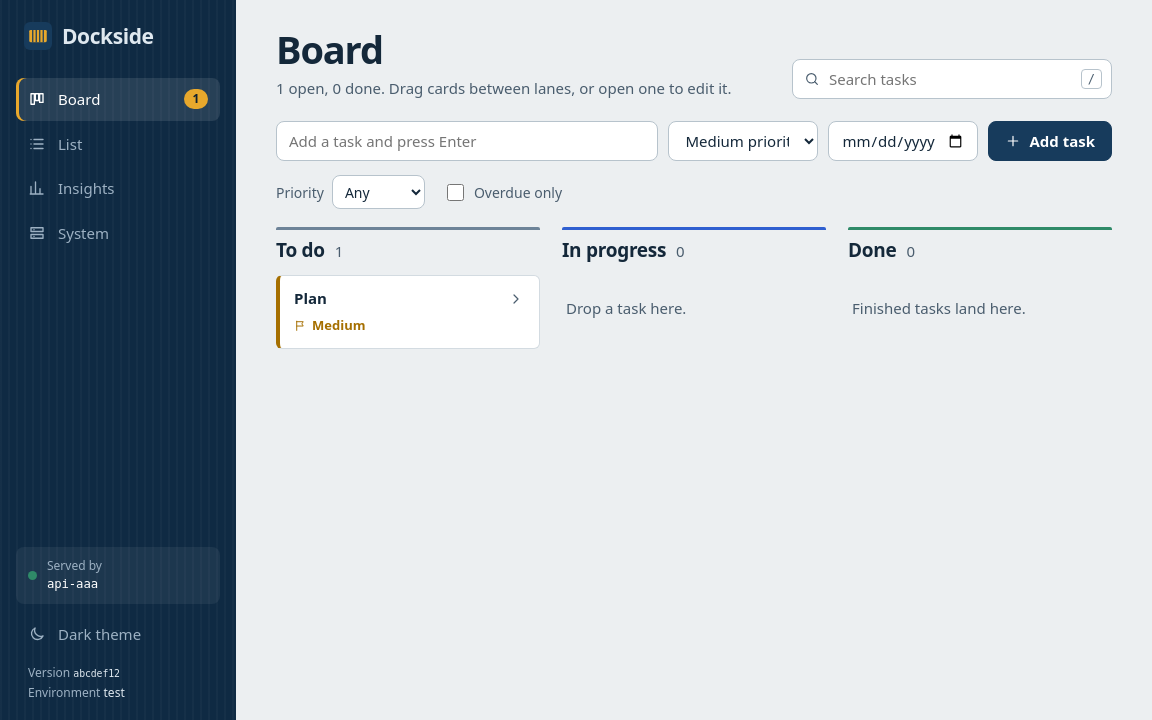
task drawer › deletes only after a second click
Click the button "Plan".
click(394, 298)  # box [294,288,495,308]
(page scrolled)
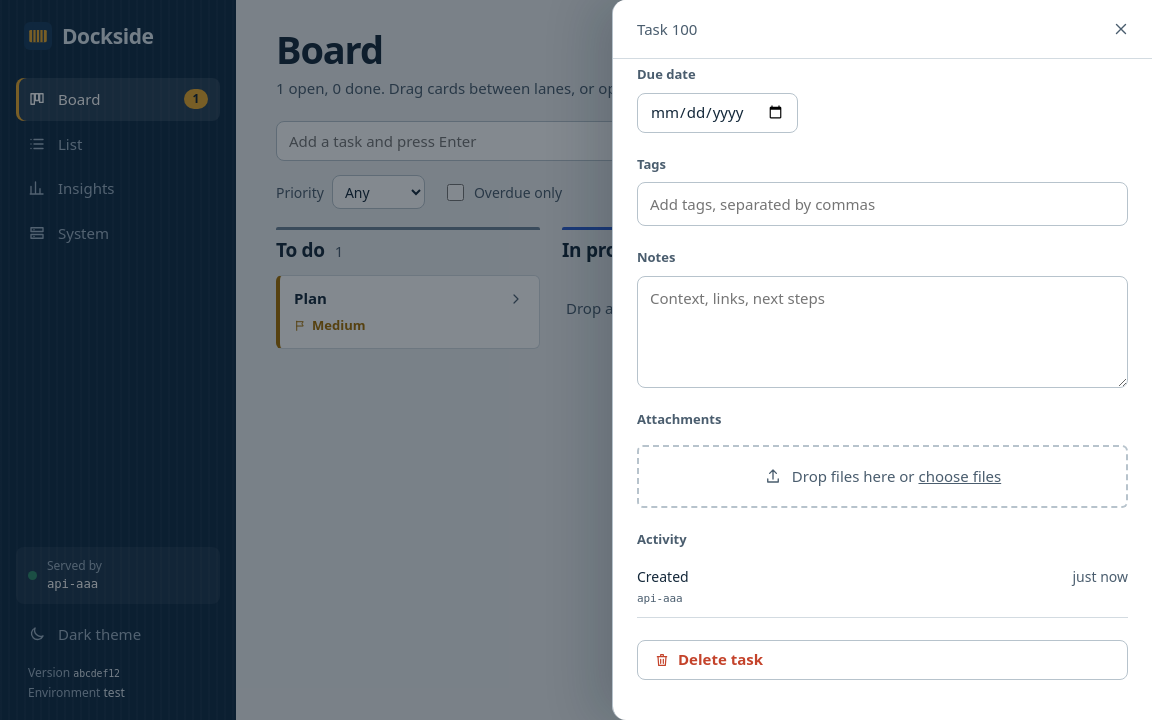
Click the button "Delete task".
click(721, 659)  # box [637,640,1128,680]
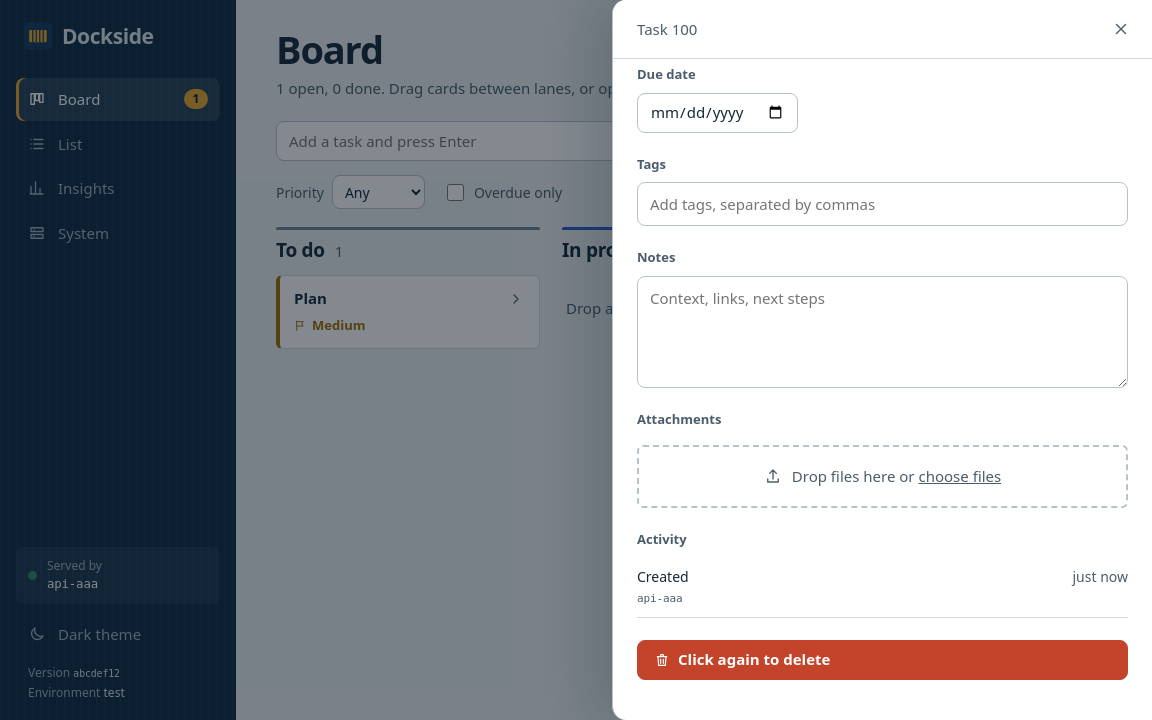
Click the button "Click again to delete".
click(754, 659)  # box [637,640,1128,680]
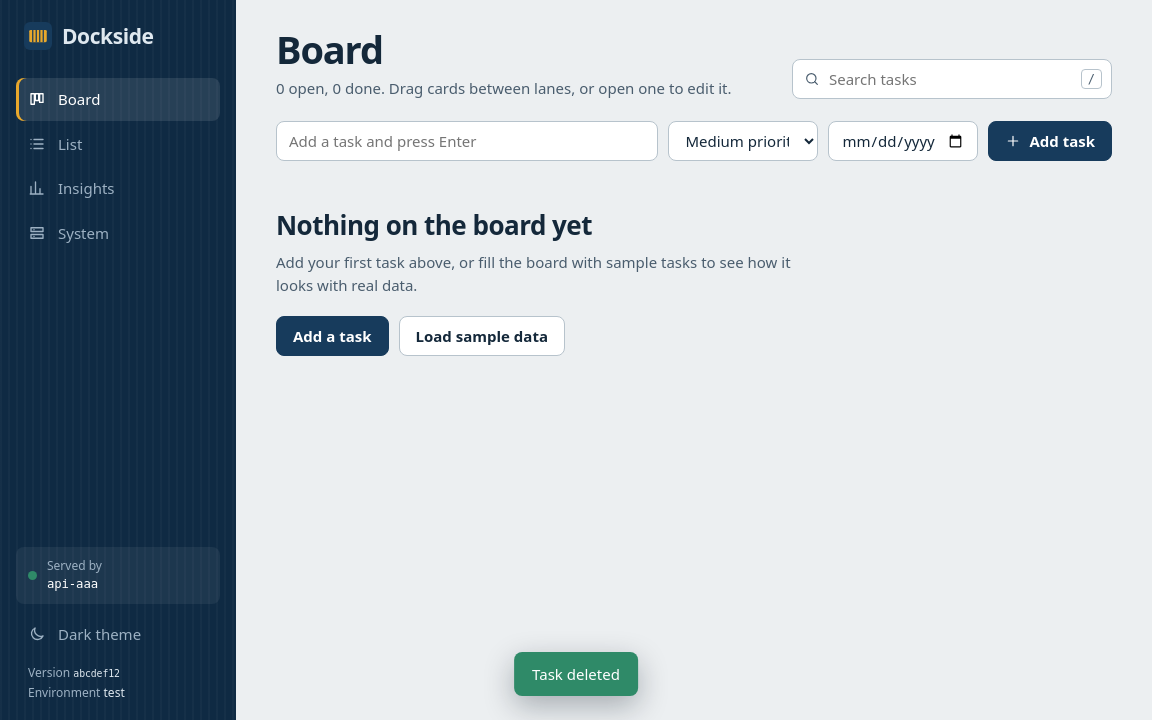
expect the button "Plan" is gone: met
